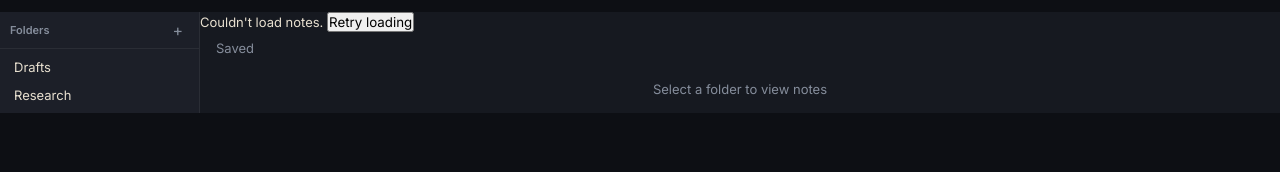
Test: Notes editing › shows a failed load and retries it
What coordinates should you click on to do the following:
click the button "Retry loading"
I would click on:
 (371, 22)
Its box is [327, 12, 414, 32].
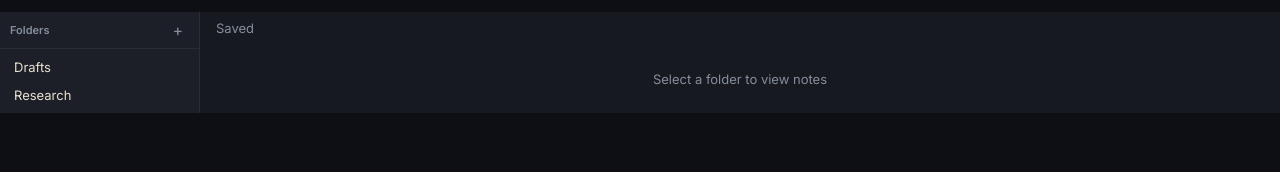
Expected: the text "Drafts" is shown, [14, 59, 51, 75]
Now the button "Retry loading" is gone
